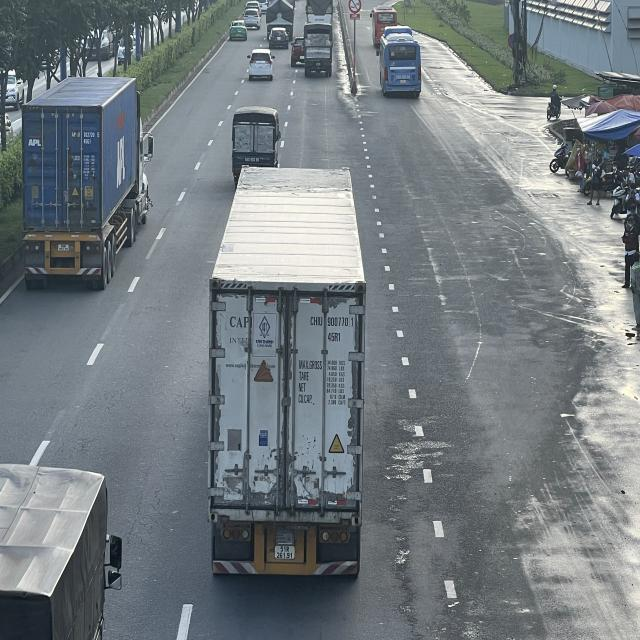car: (247, 49, 276, 82)
coach: (379, 27, 423, 99)
container: (210, 165, 370, 587), (20, 75, 154, 284)
truck: (234, 105, 284, 180), (306, 25, 336, 78)
